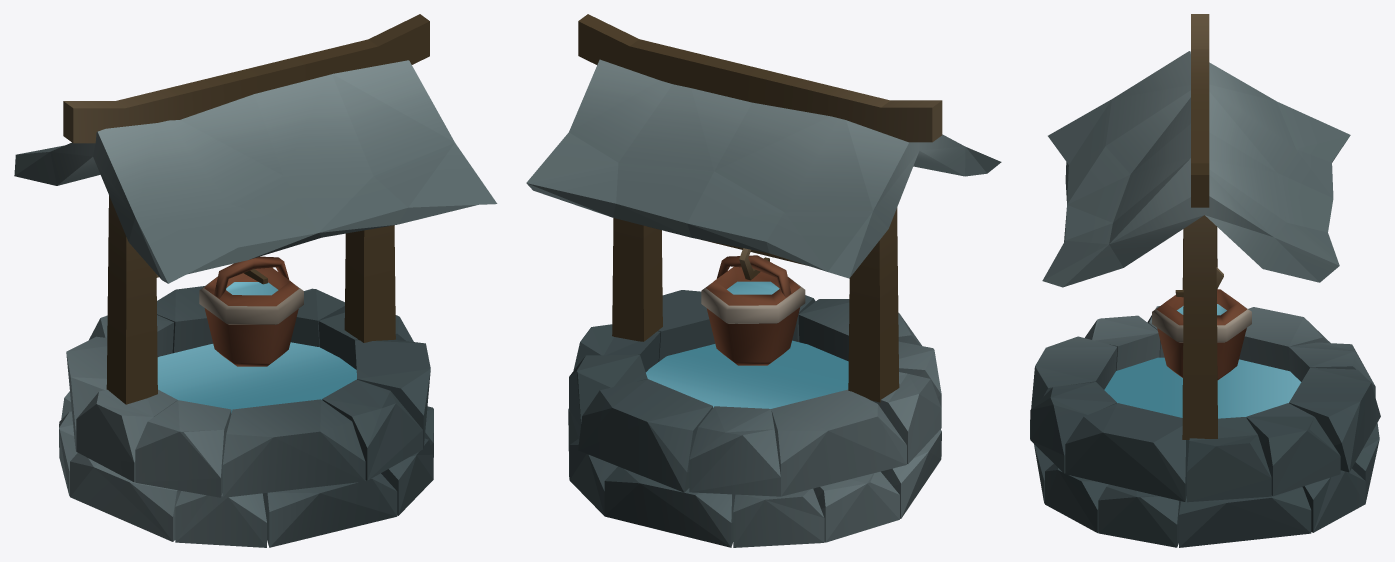
Rendered from Well.gltf.
3 views of the same model, side by side, from view 1: azimuth 30°, elevation 25°; view 2: azimuth 150°, elevation 25°; view 3: azimuth 270°, elevation 25° (orthographic). The views are drawn at different scales.
Parts seen in each view (by area): view 1: Well_Roof, Well_Wall, Well_Support, Well_Water, Well_Bucket_Full; view 2: Well_Roof, Well_Wall, Well_Support, Well_Water, Well_Bucket_Full; view 3: Well_Wall, Well_Roof, Well_Support, Well_Water, Well_Bucket_Full.
Part boxes in pixels (x1,y1,x2,y2): Well_Roof: [14, 14, 497, 283]; Well_Wall: [59, 286, 433, 547]; Well_Support: [106, 195, 395, 404]; Well_Water: [157, 342, 356, 413]; Well_Bucket_Full: [199, 256, 303, 366]; Well_Roof: [526, 14, 1001, 278]; Well_Wall: [568, 290, 941, 547]; Well_Support: [612, 207, 899, 402]; Well_Water: [646, 340, 848, 408]; Well_Bucket_Full: [701, 255, 805, 365]; Well_Wall: [1030, 306, 1380, 547]; Well_Roof: [1042, 14, 1350, 287]; Well_Support: [1175, 215, 1223, 439]; Well_Water: [1104, 357, 1301, 418]; Well_Bucket_Full: [1152, 289, 1251, 379].
Bounding box in the file's own units: 2.29 × 2.51 × 2.11.
1 material, 1 textured.
